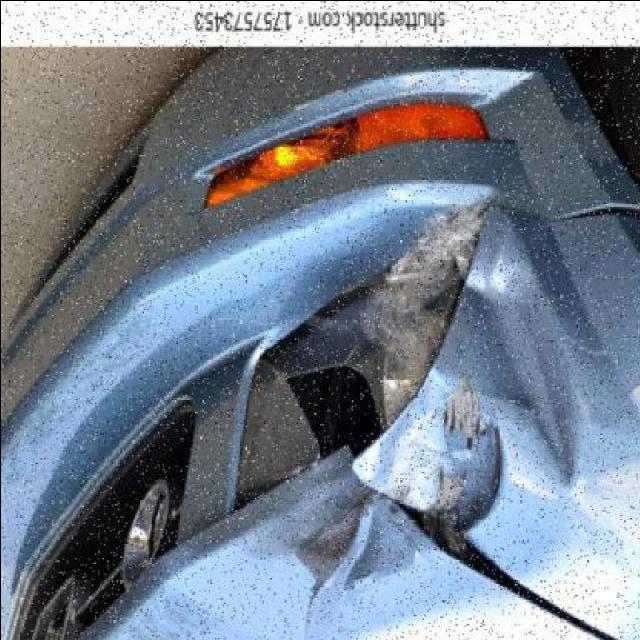bonnet-dent: (63, 466, 399, 640)
fender-dent: (413, 174, 640, 546)
